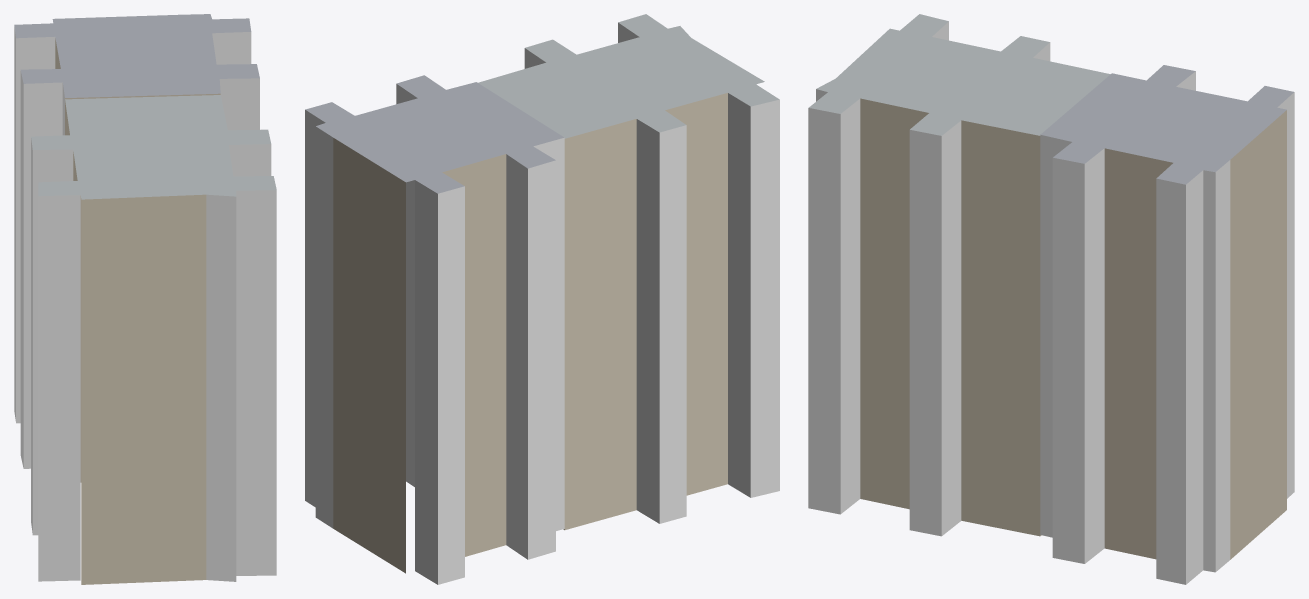
3 renders of one model, left to right at view 1: azimuth 30°, elevation 25°; view 2: azimuth 150°, elevation 25°; view 3: azimuth 270°, elevation 25°, orthographic. The views are drawn at different scales.
Visible parts, largest first — view 1: tuile; view 2: tuile; view 3: tuile.
Part boxes in pixels (box(x1,y1,x2,y2)): tuile: box(14, 14, 276, 584); tuile: box(305, 14, 779, 584); tuile: box(808, 14, 1294, 584).
Bounding box in the file's own units: 16.5 × 17.97 × 19.7.
